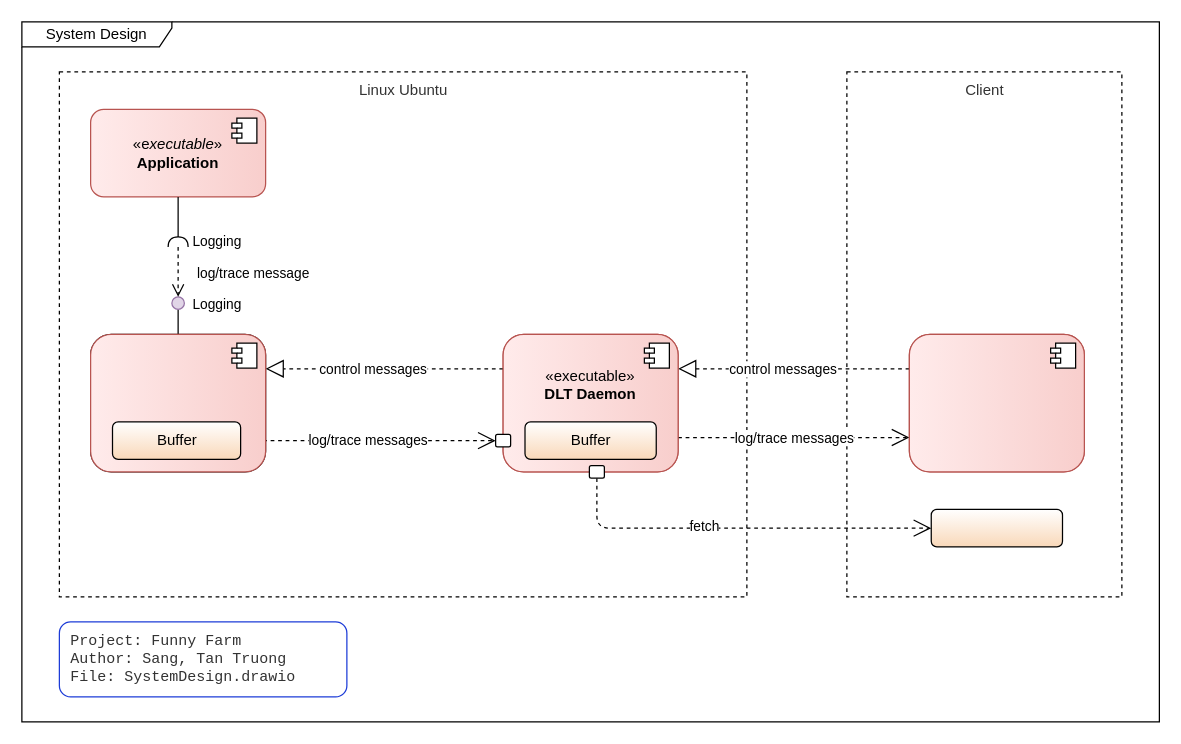
Image size: 1181x744. Some labels were removed from this diagram. Here are the shapes that lost their labels. From the top down, the box of each, then its label:
(89, 333, 266, 472): «libraries» DLT Libraries
(908, 333, 1084, 472): «executable» DLT Client
(930, 508, 1062, 547): Log Storage
